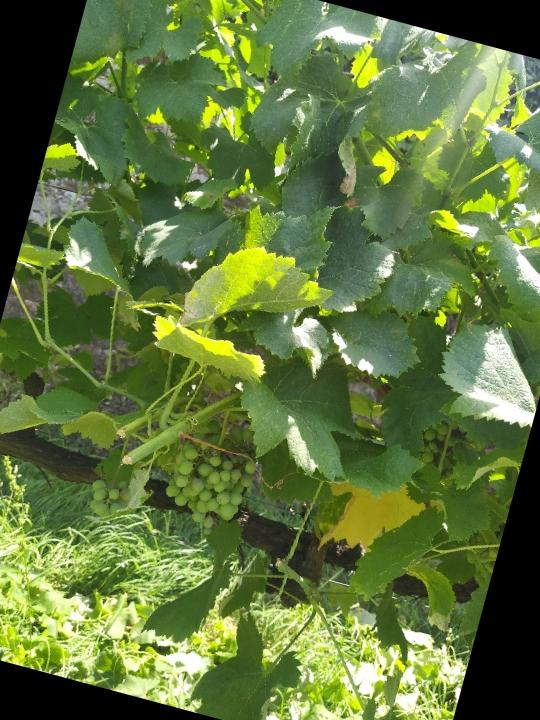grape: (157, 409, 269, 545)
